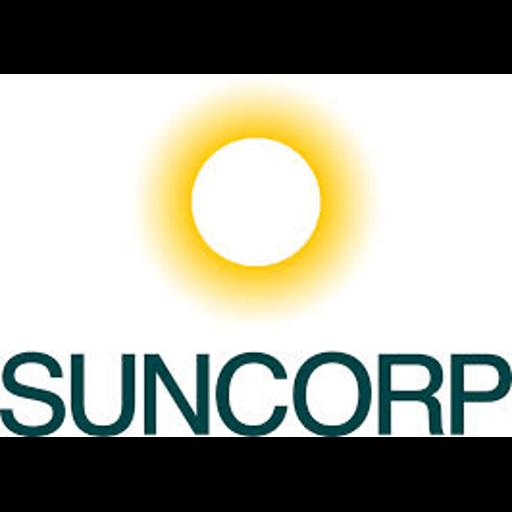Suncorp Group: (0, 74, 512, 437)
